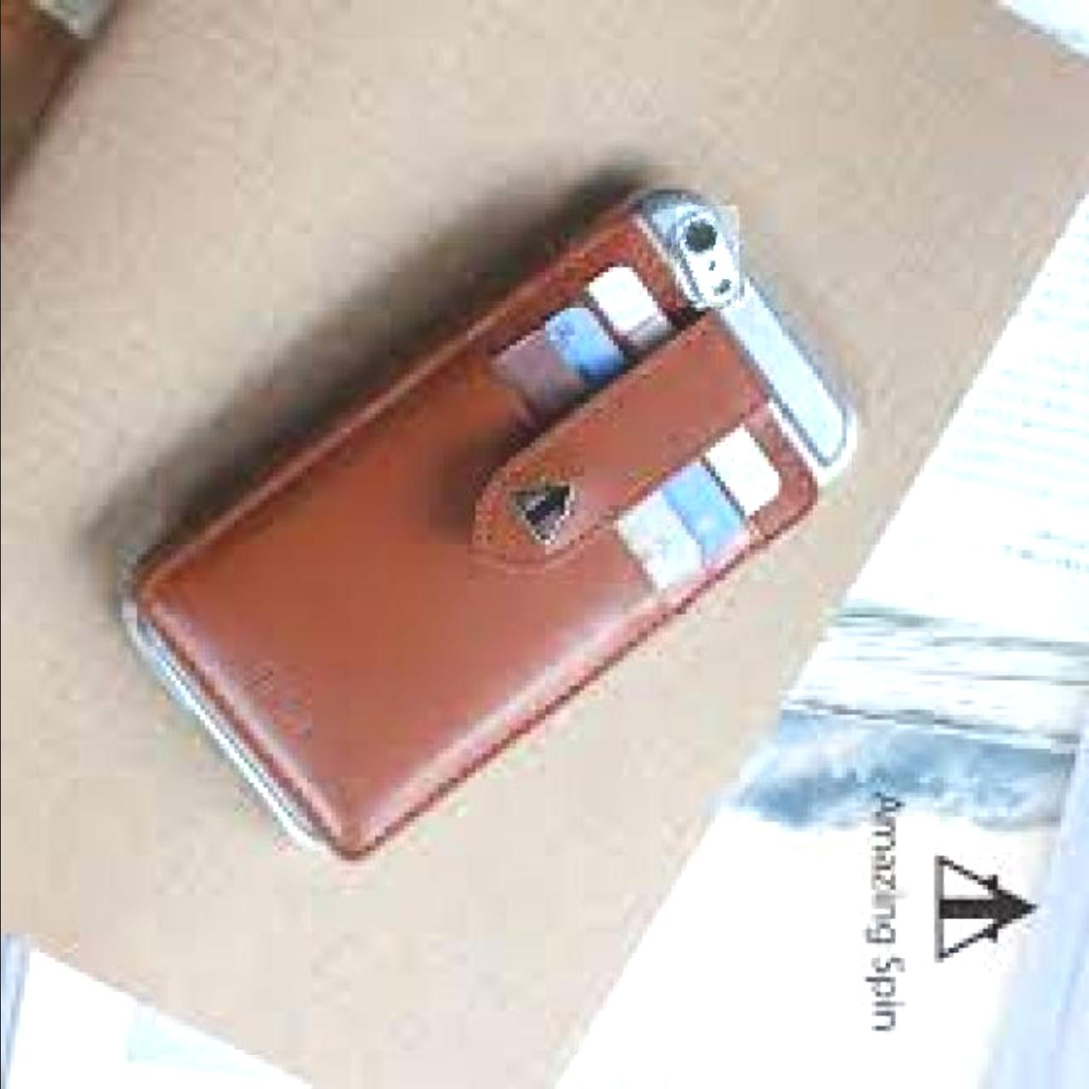phone: (118, 187, 854, 859)
